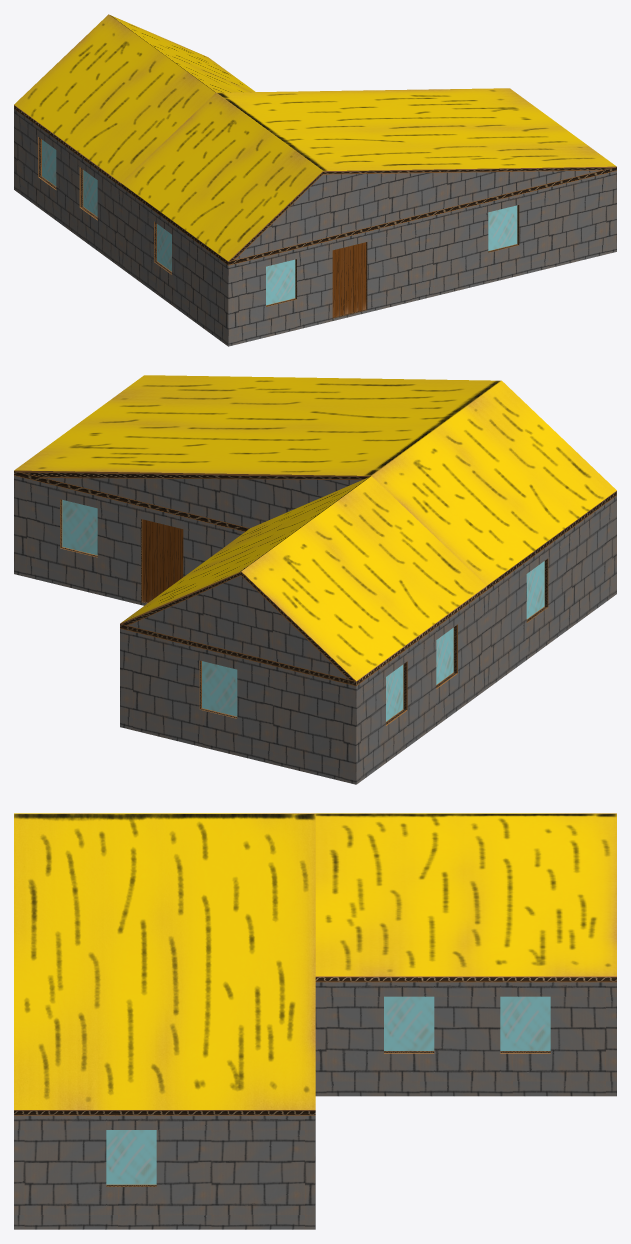
The model's file is HouseNoEnter3.fbx.
3 renders of one model, top to bottom at view 1: azimuth 30°, elevation 25°; view 2: azimuth 150°, elevation 25°; view 3: azimuth 270°, elevation 25°, orthographic. The views are drawn at different scales.
Visible parts, largest first — view 1: pCube13, pCube12, pCube11, pCube3, pCube10, pasted__pCube6; view 2: pCube13, pCube12, pasted__pCube3, pCube8, pasted__pCube6, pCube10; view 3: pCube13, pCube12, pCube7, pCube6.
Part boxes in pixels (x1,y1,x2,y2): pCube13: (121, 88, 616, 265); pCube12: (14, 14, 255, 186); pCube11: (228, 218, 422, 346); pCube3: (422, 171, 616, 298); pCube10: (121, 187, 228, 346); pasted__pCube6: (14, 109, 120, 267); pCube13: (14, 375, 616, 590); pCube12: (120, 476, 486, 686); pasted__pCube3: (120, 629, 356, 784); pCube8: (14, 475, 244, 605); pasted__pCube6: (356, 591, 486, 784); pCube10: (486, 496, 616, 688); pCube13: (14, 813, 315, 1115); pCube12: (315, 813, 616, 982); pCube7: (14, 1115, 315, 1229); pCube6: (315, 982, 616, 1096).
Bounding box in the file's own units: 12.57 × 4.71 × 12.
